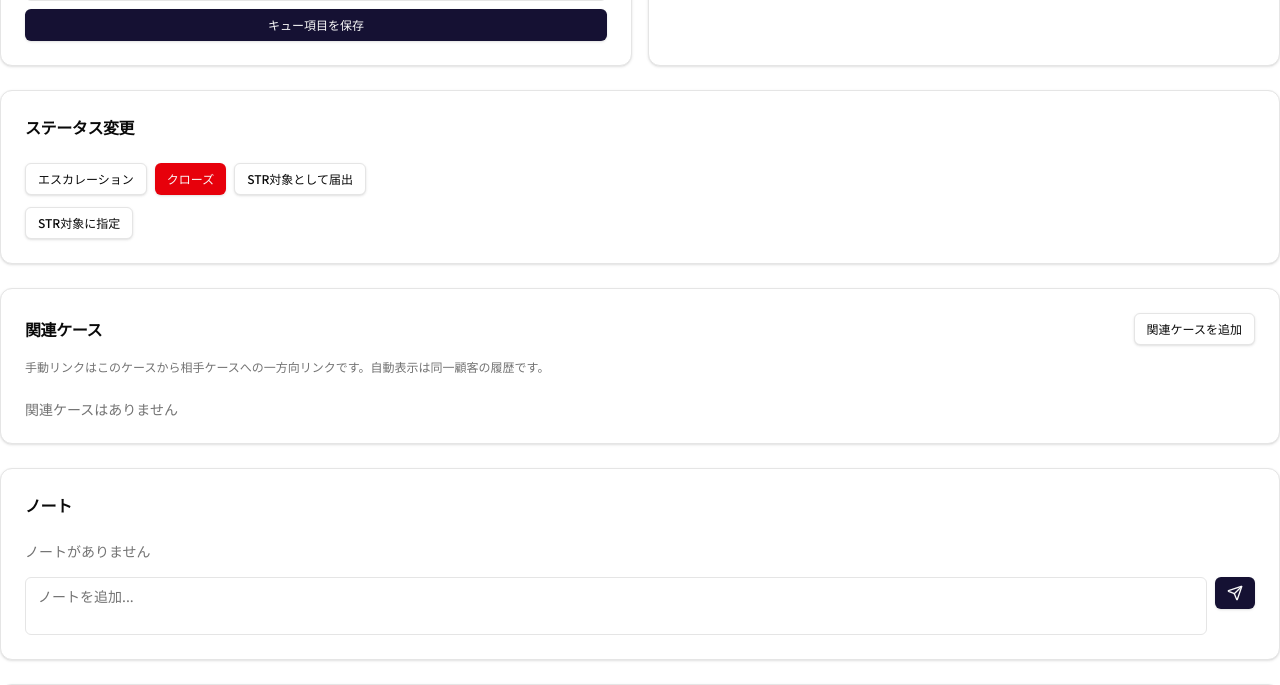
Scenario: searches accessible related-case results and preserves rationale after an add error
This screenshot has width=1280, height=685.
(page scrolled)
Click the button "関連ケースを追加" at (1194, 329), box [1134,313,1255,345]
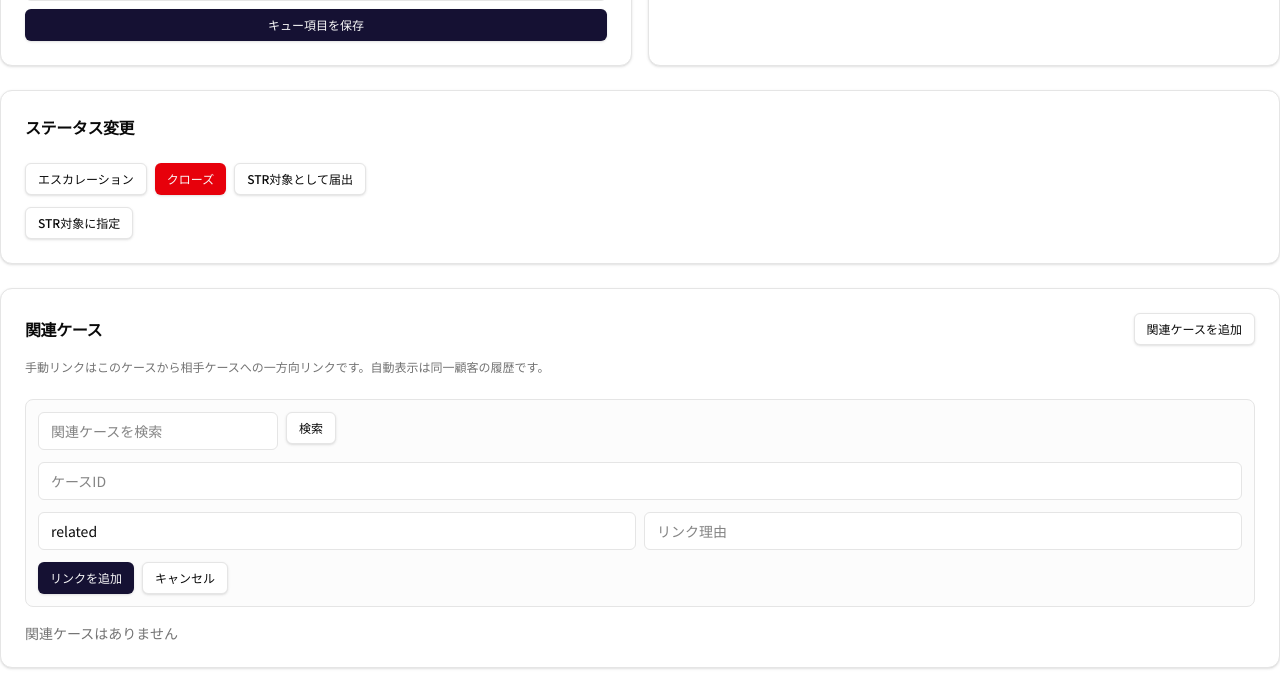
Type "target" into the field labelled "関連ケースを検索" at (158, 431), box [38,412,278,450]
Click the button "検索" at (311, 428), box [286,412,336,444]
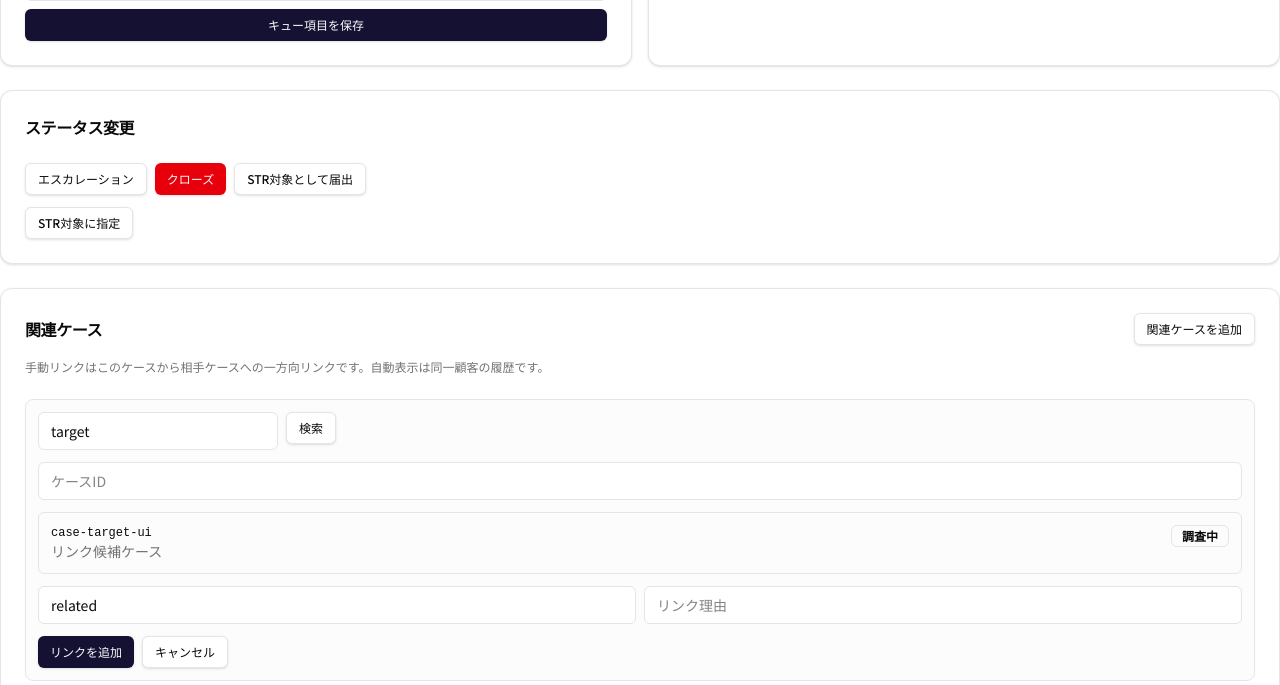
Result: the button "case-target-ui リンク候補ケース 調査中" is shown
Click the button "case-target-ui リンク候補ケース 調査中" at (101, 533), box [43,517,1237,569]
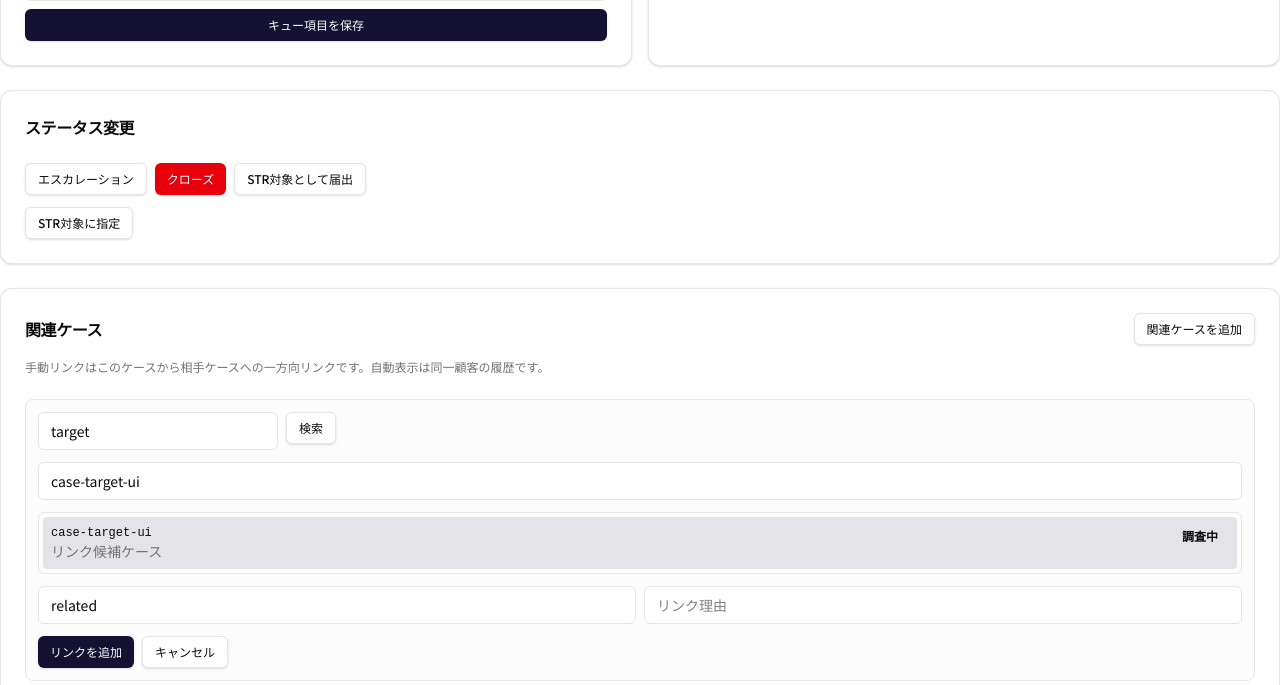
Type "同一顧客の関連調査" into the field labelled "リンク理由" at (943, 605), box [644,586,1242,624]
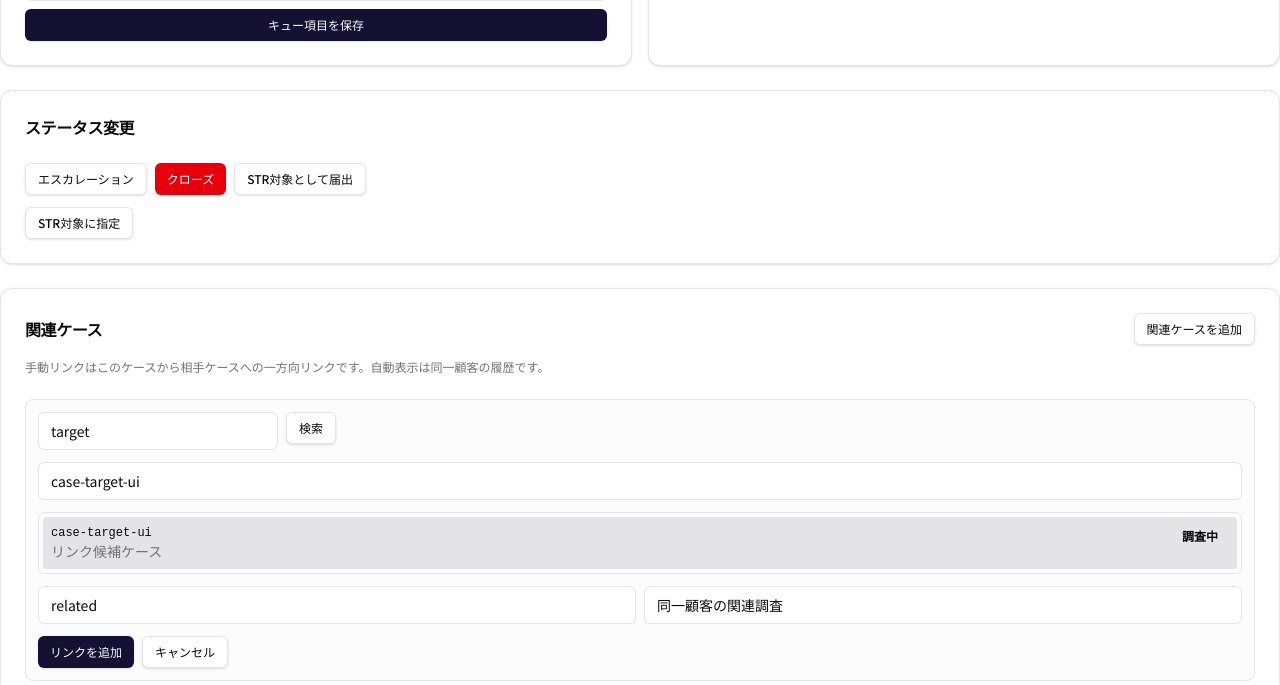
Click the button "リンクを追加" at (86, 652), box [38,636,134,668]
(page scrolled)
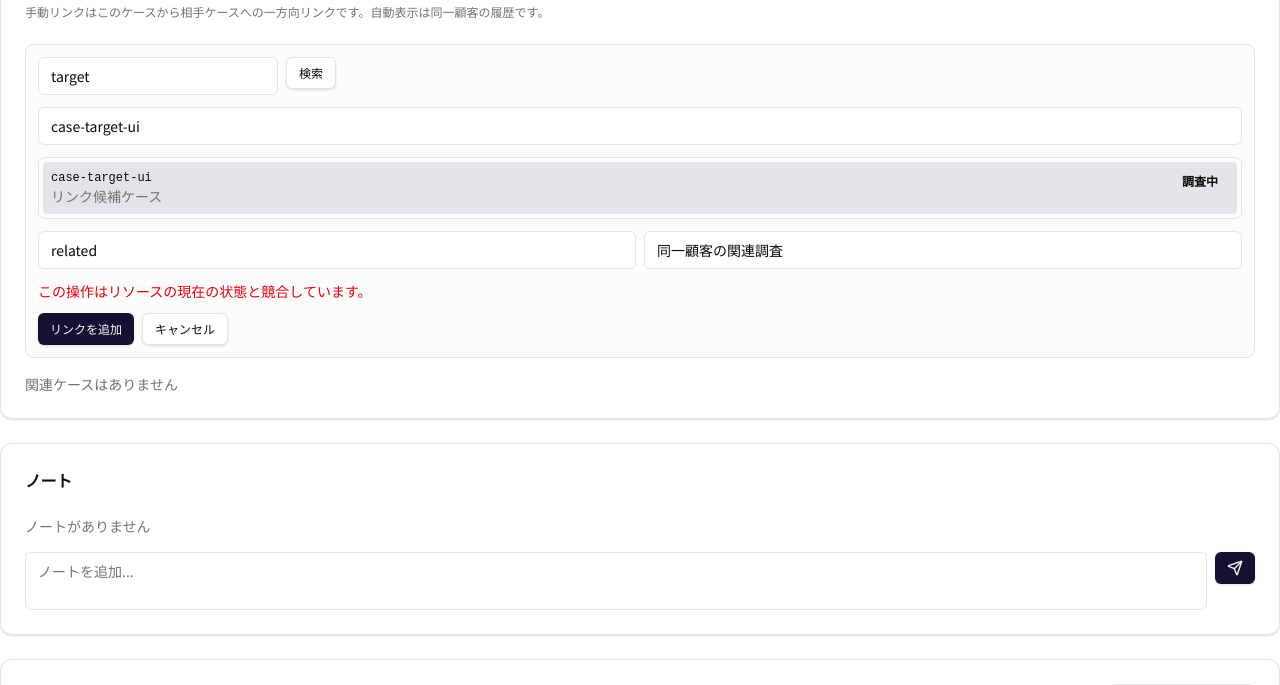
Result: the field showing "case-target-ui" is shown at [38,107,1242,145]
Result: the message shows "この操作はリソースの現在の状態と競合しています" at [38,281,372,301]
Click the button "キャンセル" at (185, 329), box [142,313,228,345]
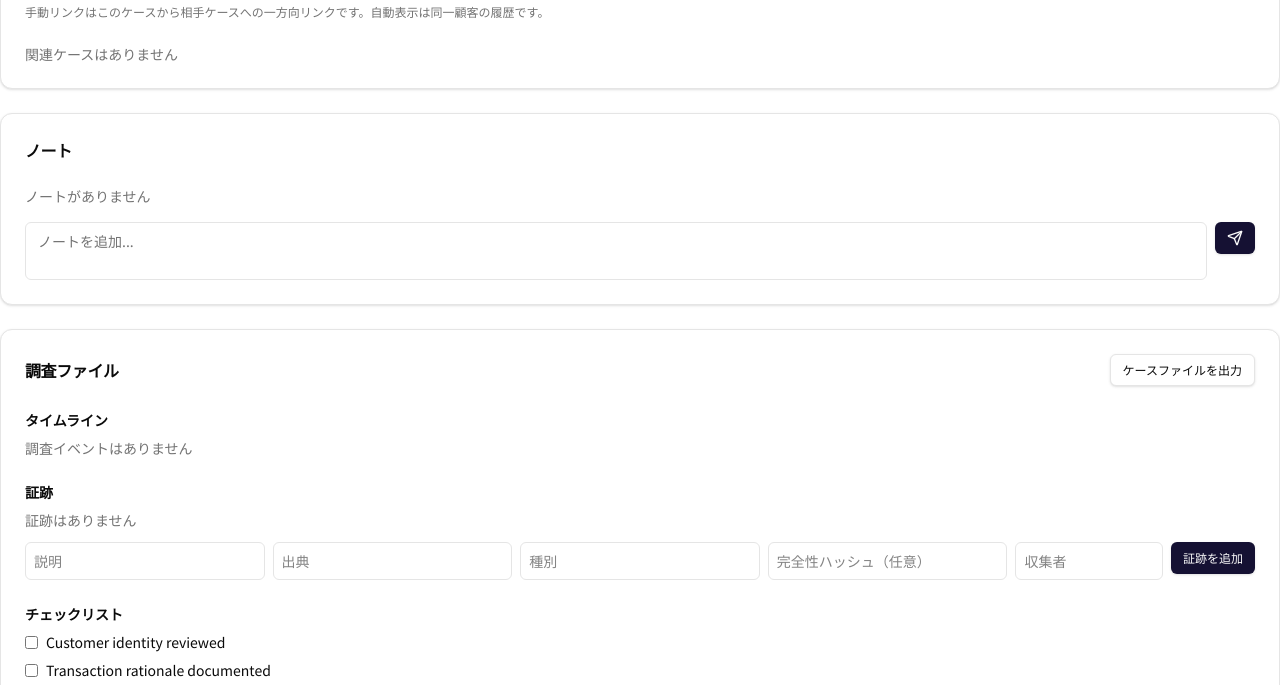
Result: the field labelled "関連ケースを検索" is gone
